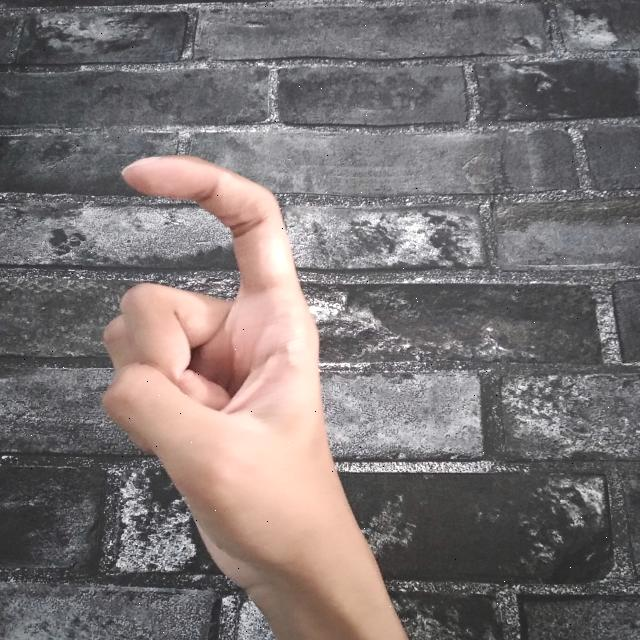X: (95, 147, 415, 640)
